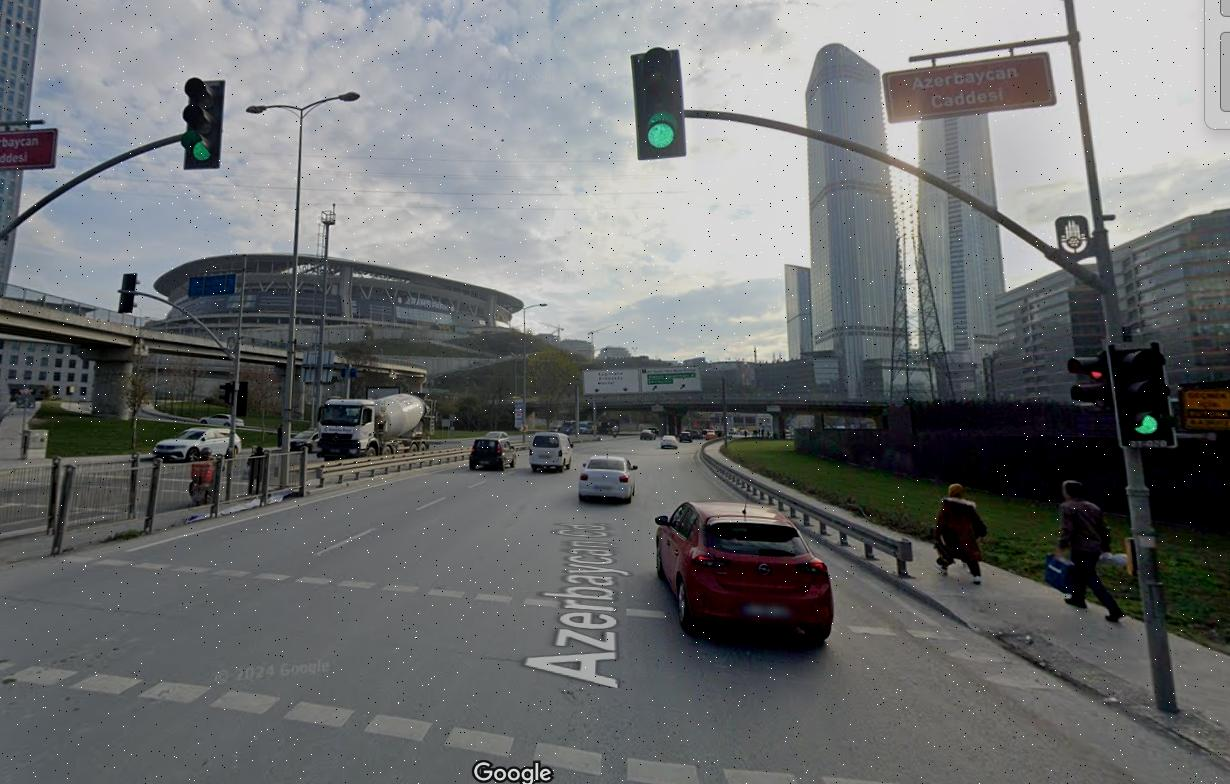greenlight: (1113, 344, 1170, 445), (635, 48, 683, 154), (183, 83, 224, 165)
